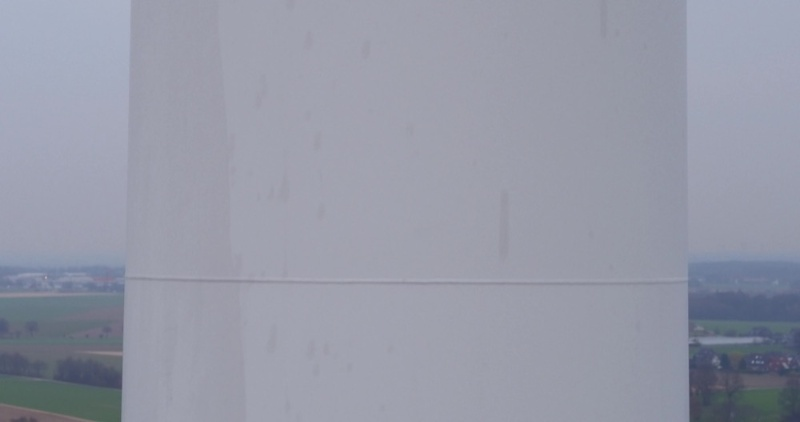weldseam: (121, 265, 690, 292)
